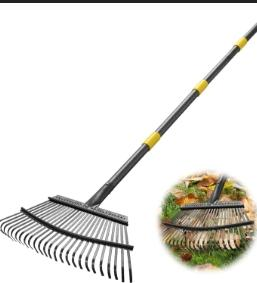RATEAU: (1, 2, 257, 283)
